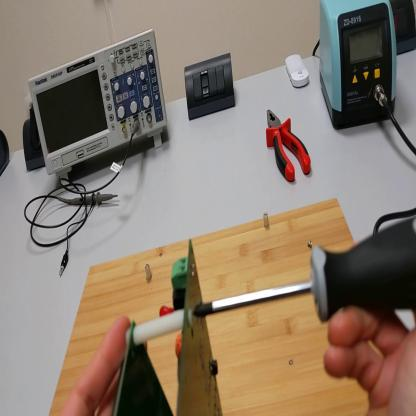hand: (324, 306, 416, 416), (60, 319, 134, 416)
low voltage board: (113, 241, 222, 416)
oscilloscope: (29, 25, 170, 187)
oscilloscope probe tip: (61, 192, 118, 204)
pliers: (265, 107, 313, 183)
screwdriver-: (193, 219, 416, 325)
socket: (22, 118, 47, 176), (391, 1, 416, 55), (1, 130, 12, 177)
welder station: (321, 2, 399, 133)
working area: (49, 198, 392, 414)
